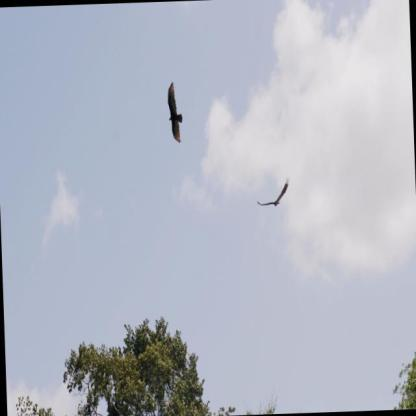bird: (256, 174, 292, 208), (166, 80, 184, 143)
